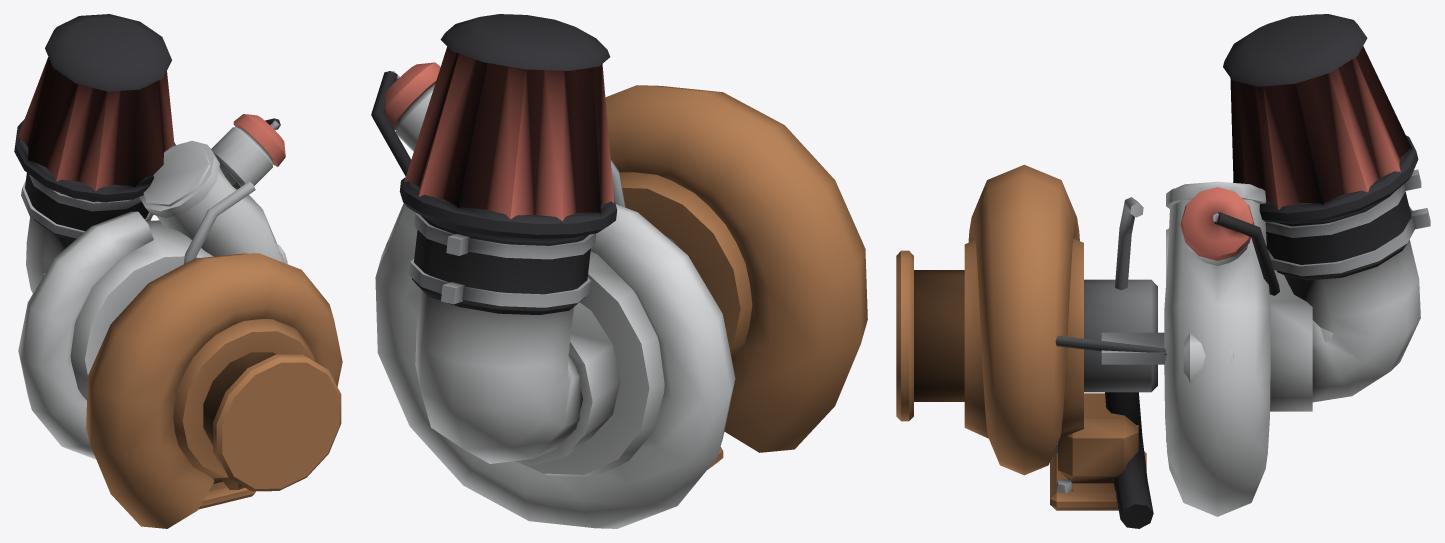
The model's file is turbo_mid.glb.
The picture shows the model from 3 angles, left to right: view 1: azimuth 30°, elevation 25°; view 2: azimuth 150°, elevation 25°; view 3: azimuth 270°, elevation 25°; orthographic projection. The views are drawn at different scales.
Parts seen in each view (by area): view 1: PART; view 2: PART; view 3: PART.
Boxes of the visible parts, <box> form: PART: <box>14,14,342,528</box>; PART: <box>371,14,867,528</box>; PART: <box>896,14,1430,528</box>.
Bounding box in the file's own units: 0.2286 × 0.321 × 0.3319.
